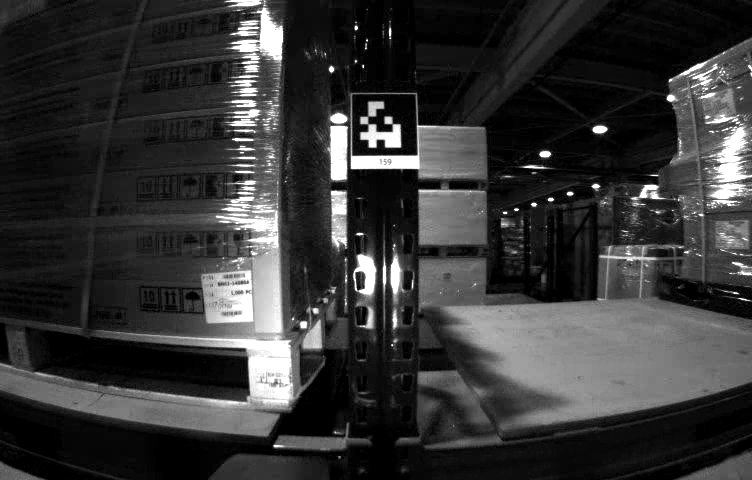True Barcode: (200, 272, 256, 321)
